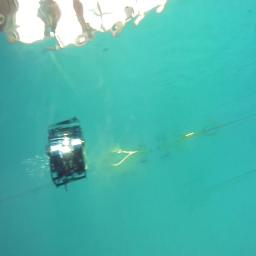front: (45, 138, 87, 188)
